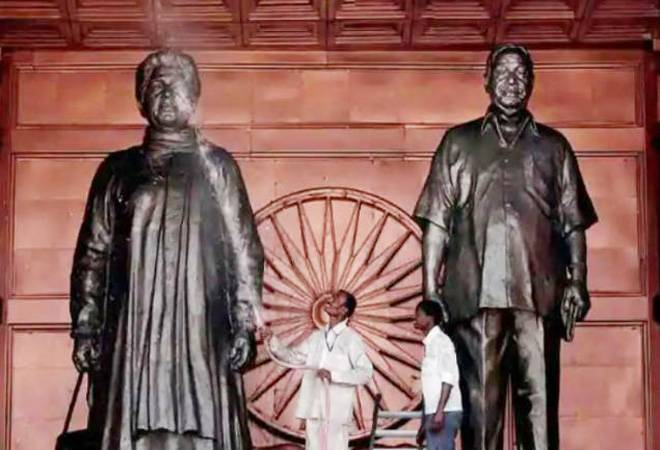person: (257, 284, 376, 450), (410, 298, 468, 450)
person-like: (65, 44, 268, 449), (410, 40, 603, 449)
